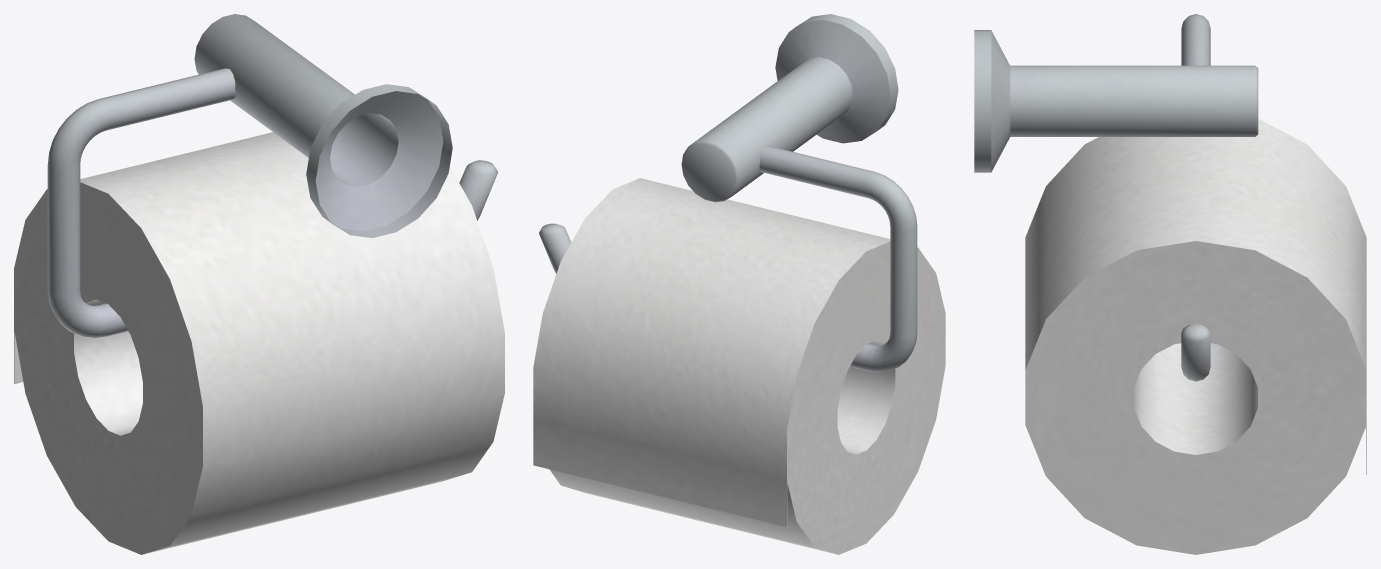
File: Toilet01Paper.FBX
The picture shows the model from 3 angles, left to right: view 1: azimuth 30°, elevation 25°; view 2: azimuth 150°, elevation 25°; view 3: azimuth 270°, elevation 25°; orthographic projection. The views are drawn at different scales.
Parts seen in each view (by area): view 1: Toilet01Paper; view 2: Toilet01Paper; view 3: Toilet01Paper.
Part boxes in pixels (x1,y1,x2,y2): Toilet01Paper: (14,14,504,554); Toilet01Paper: (533,14,945,554); Toilet01Paper: (974,14,1366,554).
Bounding box in the file's own units: 5.81 × 6.23 × 4.9.
